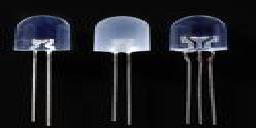LED: (167, 13, 230, 128), (11, 14, 71, 128), (92, 16, 153, 124)
